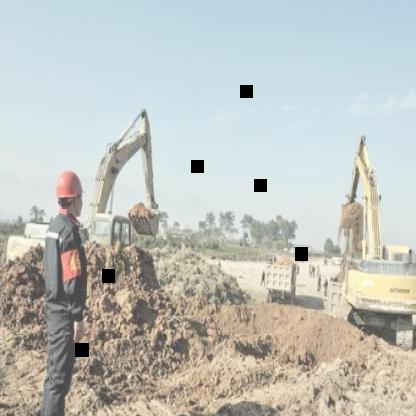helmet: (52, 167, 84, 218)
